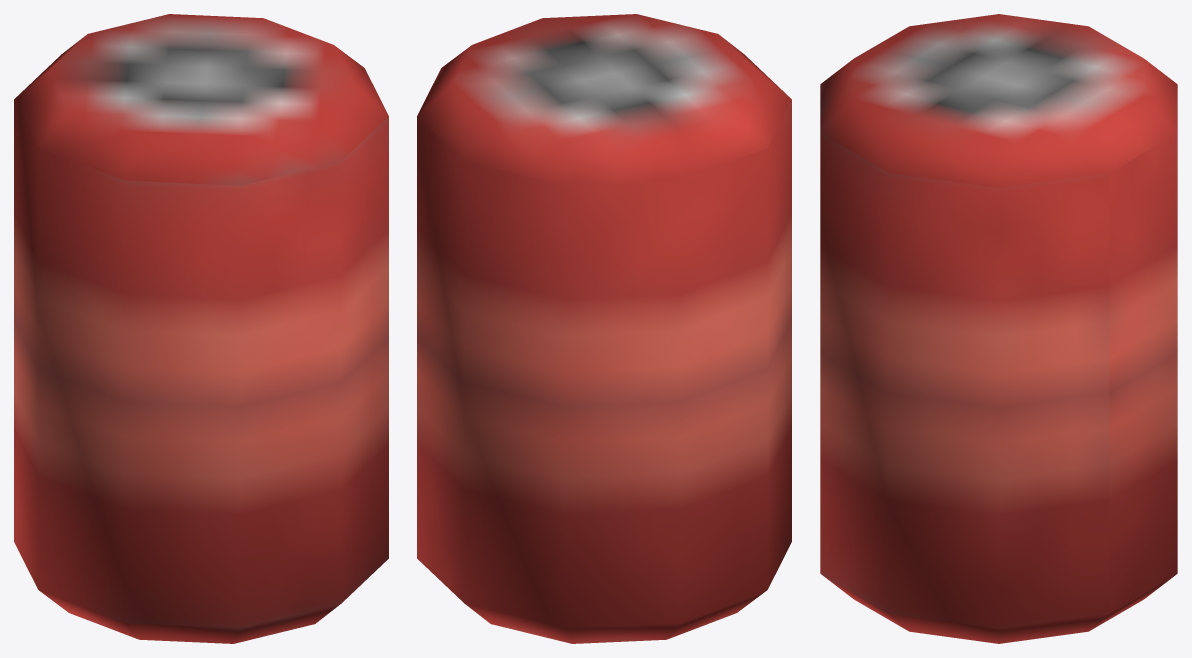
The model's file is OilTank1.FBX.
3 views of the same model, side by side, from view 1: azimuth 30°, elevation 25°; view 2: azimuth 150°, elevation 25°; view 3: azimuth 270°, elevation 25° (orthographic).
Parts seen in each view (by area): view 1: OilTank; view 2: OilTank; view 3: OilTank.
Boxes of the visible parts, x1,y1,x2,y2 form: OilTank: (14,14,388,643); OilTank: (417,14,791,643); OilTank: (820,14,1177,643).
Bounding box in the file's own units: 11.84 × 17.44 × 11.27.
1 material, 1 textured.
